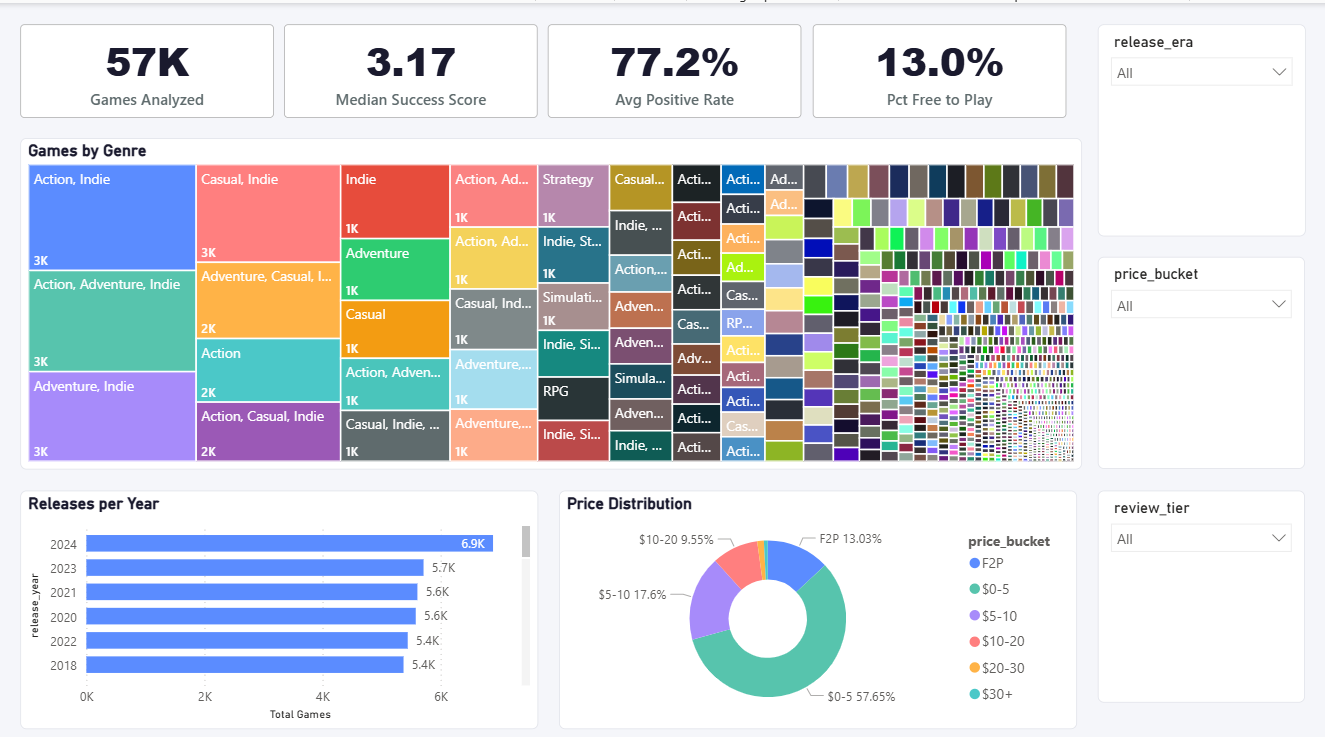

The page's visual inventory and layout, read from the dashboard file:
{"tool":"powerbi","page":{"name":"Overview","canvas":[1280,720],"ordinal":0},"visuals":[{"type":"slicer","fields":{"Values":["df.release_era"]},"box":[1060,20,200.5,205],"z":0},{"type":"slicer","fields":{"Values":["df.price_bucket"]},"box":[1060,245,200,205],"z":1000},{"type":"slicer","fields":{"Values":["df.review_tier"]},"box":[1060,470,200,205],"z":2000},{"type":"card","title":"Games Analyzed","fields":{"Values":["df.Total Games"]},"box":[20,20,245,90],"z":3000},{"type":"card","fields":{"Values":["df.Median Success Score"]},"box":[275,20,245,90],"z":4000},{"type":"card","fields":{"Values":["df.Avg Positive Rate"]},"box":[530,20,245,90],"z":5000},{"type":"card","fields":{"Values":["df.Pct Free to Play"]},"box":[785,20,245,90],"z":6000},{"type":"treemap","title":"Games by Genre","fields":{"Group":["df.genres"],"Values":["df.Total Games"]},"box":[20,130,1025,320],"z":7000},{"type":"donutChart","title":"Price Distribution","fields":{"Category":["df.price_bucket"],"Y":["df.Total Games"]},"box":[540,470,500,230],"z":8000},{"type":"clusteredBarChart","title":"Releases per Year","fields":{"Category":["df.release_year"],"Y":["df.Total Games"]},"box":[20,470,500,230],"z":9000}]}

Visuals, with their boxes in screenshot pixels (x1, y1, x2, y2), scaled from the page's 1280x720 canvas onto the 1325x737 screenshot:
slicer - df.release_era: [1097, 20, 1305, 230]
slicer - df.price_bucket: [1097, 251, 1304, 461]
slicer - df.review_tier: [1097, 481, 1304, 691]
"Games Analyzed" card: [21, 20, 274, 113]
card - df.Median Success Score: [285, 20, 538, 113]
card - df.Avg Positive Rate: [549, 20, 802, 113]
card - df.Pct Free to Play: [813, 20, 1066, 113]
"Games by Genre" treemap: [21, 133, 1082, 461]
"Price Distribution" donutChart: [559, 481, 1077, 717]
"Releases per Year" clusteredBarChart: [21, 481, 538, 717]
